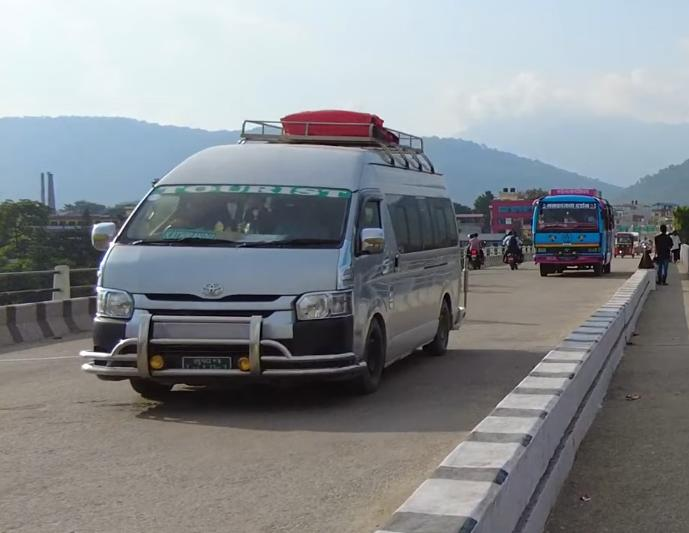auto_rickshaw: (612, 232, 636, 262)
bike: (465, 238, 487, 272), (505, 240, 525, 272)
bus: (529, 187, 617, 279)
micro_bus: (66, 102, 471, 406)
